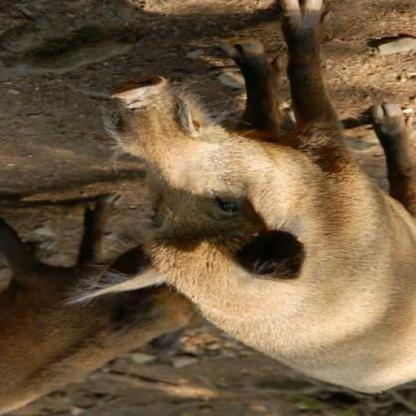boar: (113, 27, 415, 407)
